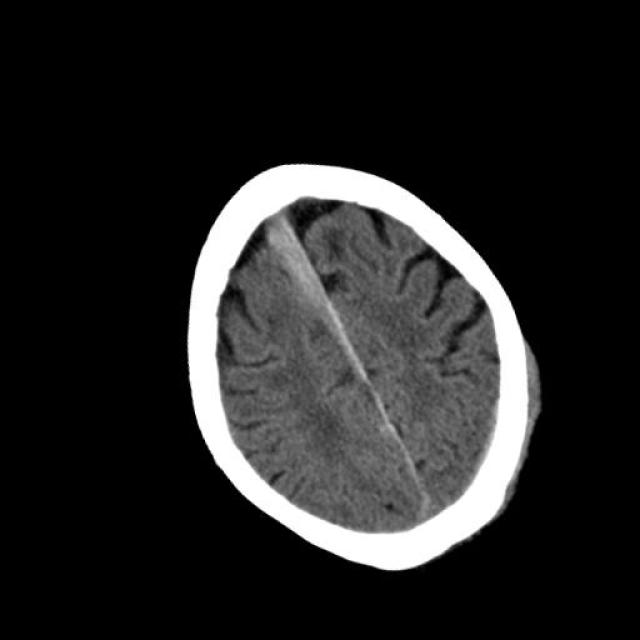Subdural: (207, 153, 396, 432)
